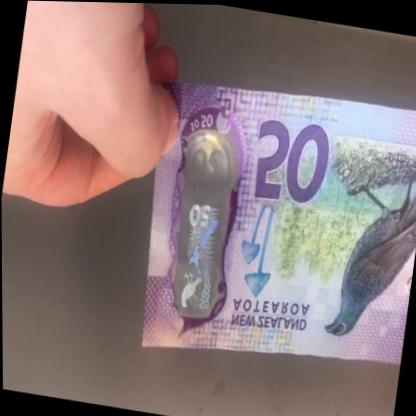50B: (170, 139, 234, 316)
